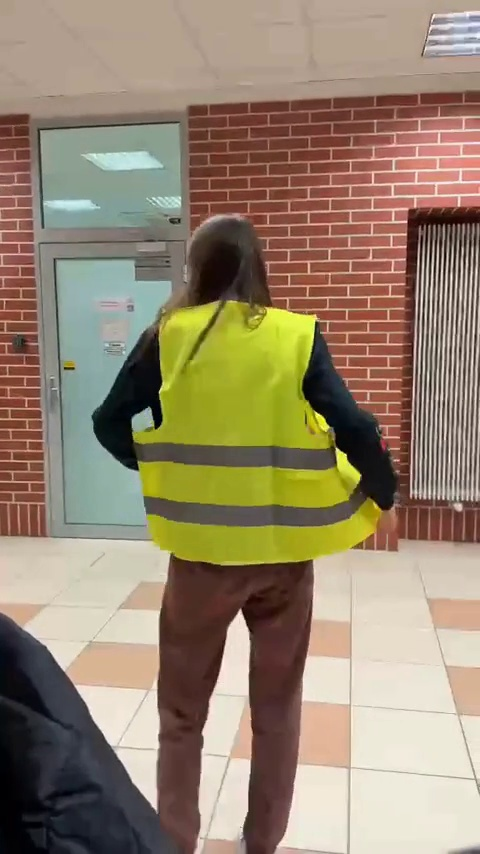vest: (90, 217, 407, 854)
